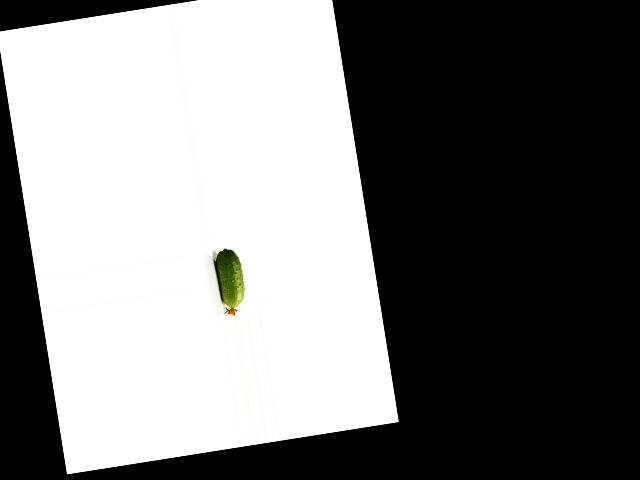cucumber: (212, 246, 248, 316)
